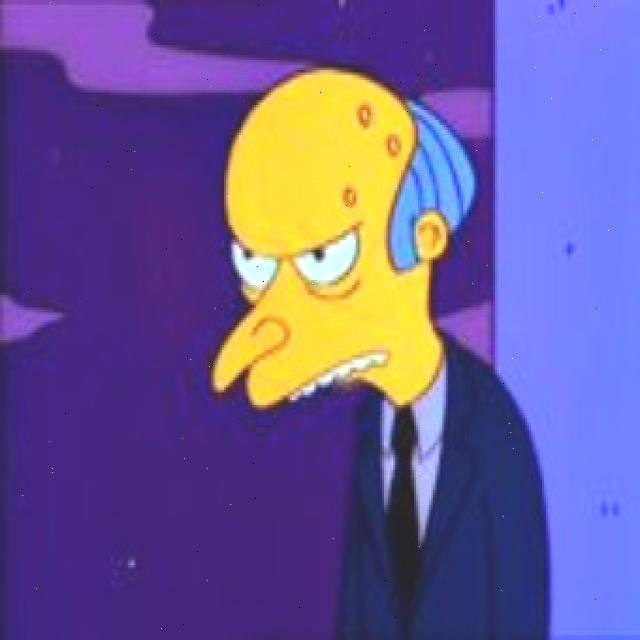Charles Montgomery Burns: (207, 68, 482, 418)
